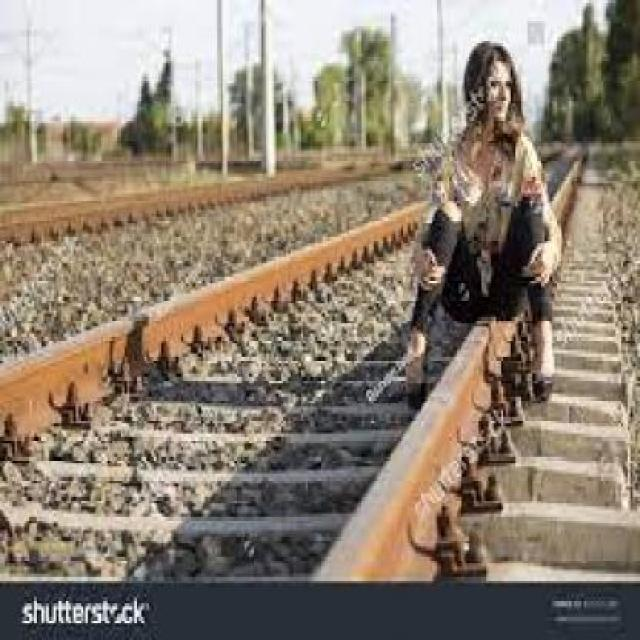danger: (382, 31, 578, 416)
rail: (1, 111, 638, 581)
